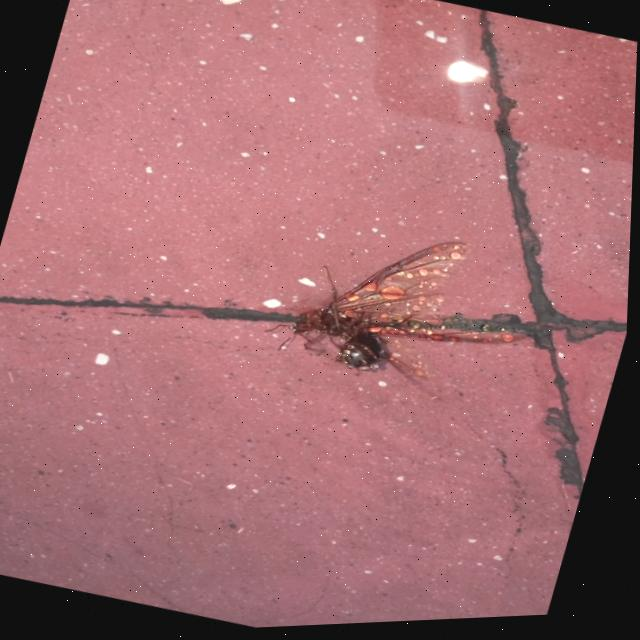Dead-Male-Alate: (259, 201, 553, 414)
